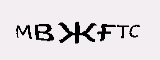Ж: (59, 15, 81, 38)
Л: (80, 18, 98, 44)
Р: (108, 19, 124, 45)
С: (96, 19, 110, 45)
Ч: (41, 12, 61, 39)
